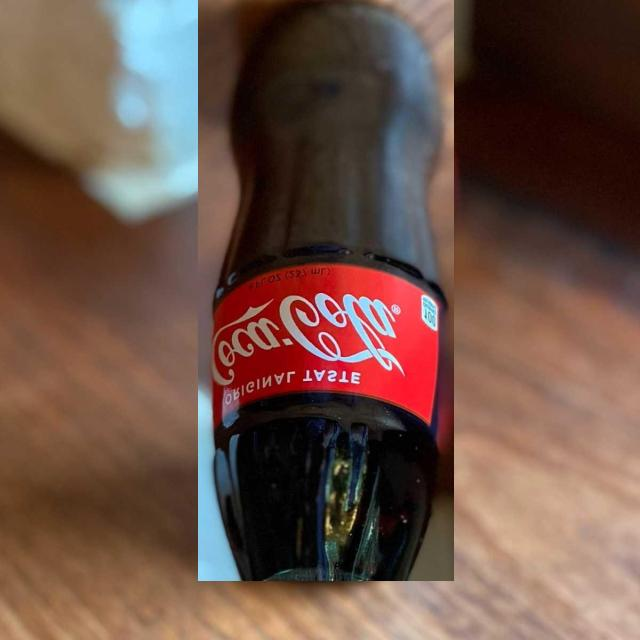coca-cola: (198, 0, 454, 581)
